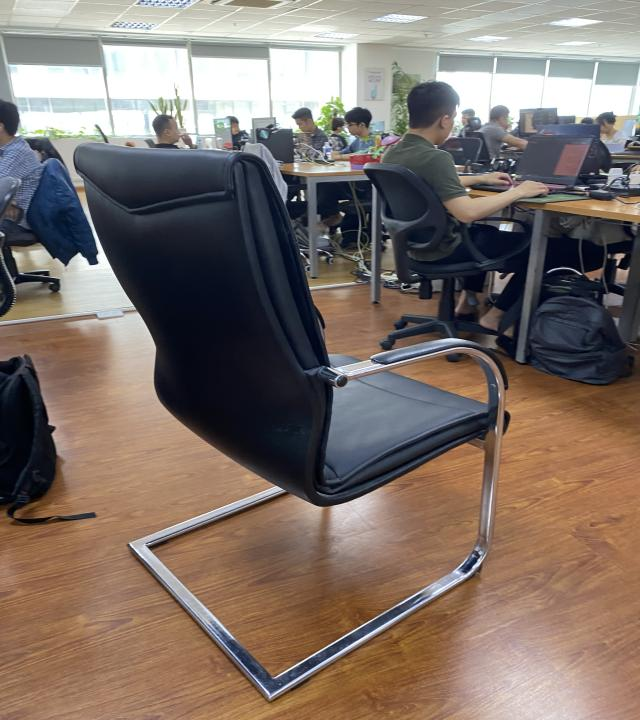SS_03: (67, 137, 517, 703)
